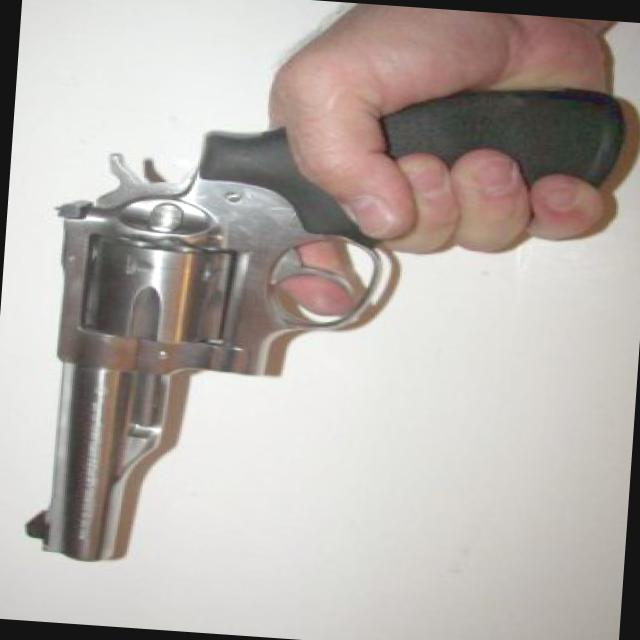handgun: (13, 52, 620, 594)
